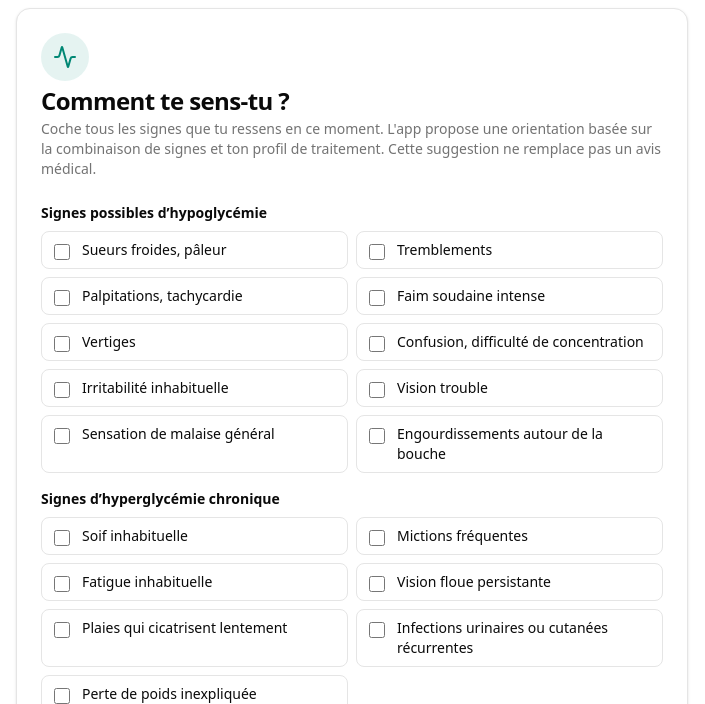
Test: <SymptomsNewPage /> › disables the evaluate button until a symptom is checked
Click the checkbox labelled "Sueurs froides, pâleur".
click(62, 252)  # box [54,244,70,260]
(page scrolled)
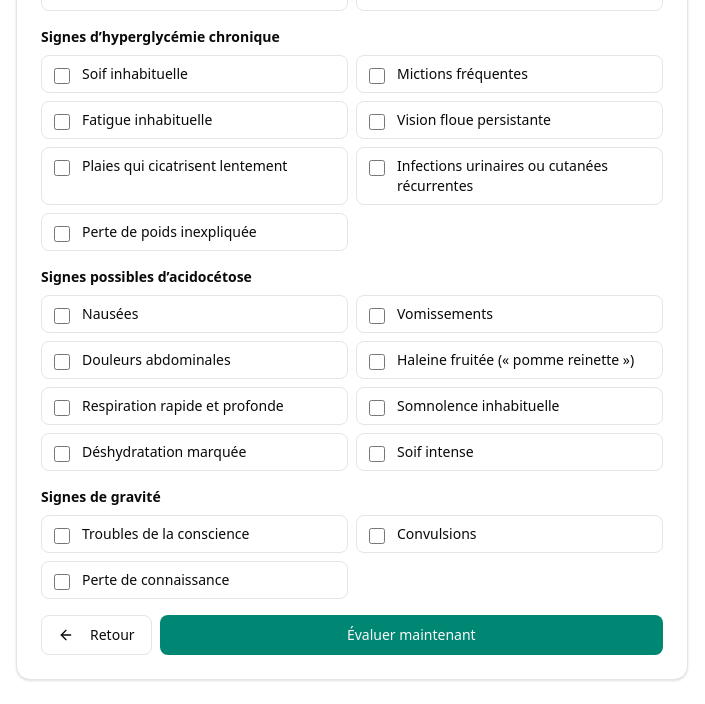
Expected: the button with test id "triage-evaluate" is enabled, [160,615,663,655]
